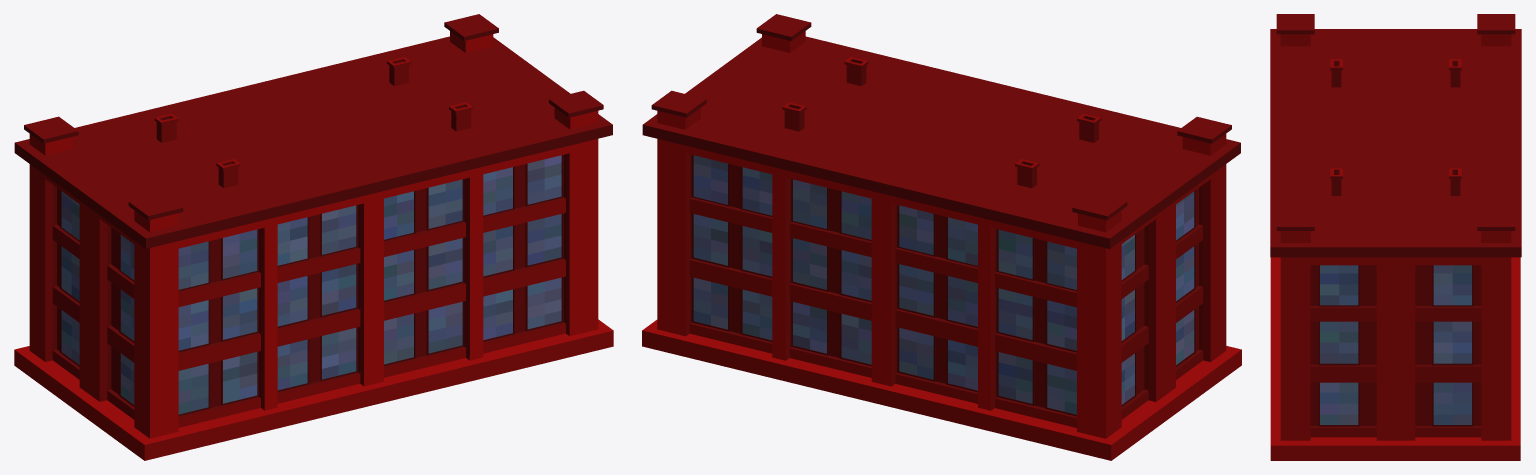
Rendered from buildings-industrial-factory_v3.fbx.
3 views of the same model, side by side, from view 1: azimuth 30°, elevation 25°; view 2: azimuth 150°, elevation 25°; view 3: azimuth 270°, elevation 25° (orthographic). The views are drawn at different scales.
Visible parts, largest first — view 1: Factory_v3_base, Factory_v3_windowRefl; view 2: Factory_v3_base, Factory_v3_windowRefl; view 3: Factory_v3_base, Factory_v3_windowRefl.
Part boxes in pixels (x1,y1,x2,y2): Factory_v3_base: (14, 14, 613, 460); Factory_v3_windowRefl: (61, 155, 561, 414); Factory_v3_base: (642, 14, 1241, 460); Factory_v3_windowRefl: (693, 155, 1194, 414); Factory_v3_base: (1270, 14, 1521, 460); Factory_v3_windowRefl: (1320, 265, 1471, 424).
Size of the model in its own units: 48.35 by 23.98 by 23.42.
